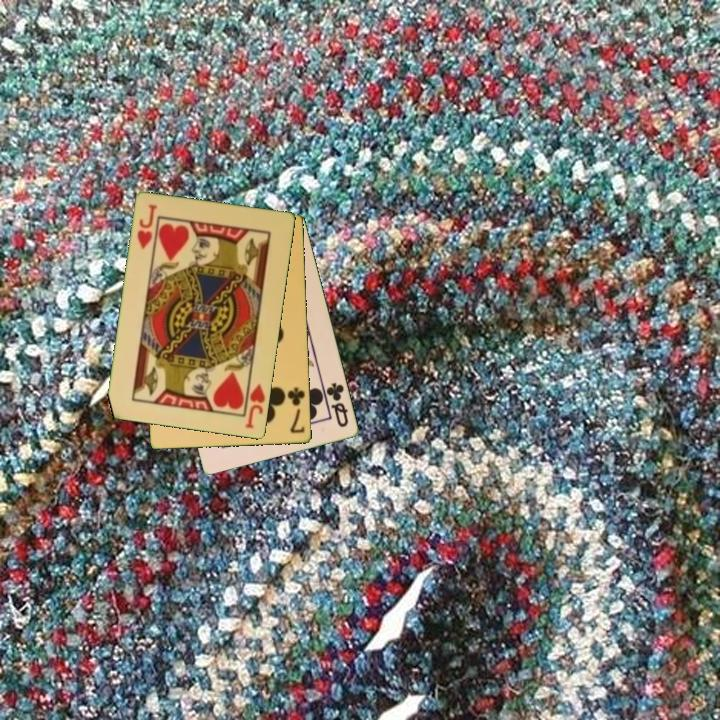7c: (284, 384, 308, 436)
Jh: (242, 381, 268, 432), (134, 201, 160, 252)
Qc: (323, 379, 352, 430)
